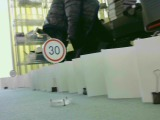speed_30: (41, 37, 67, 64)
